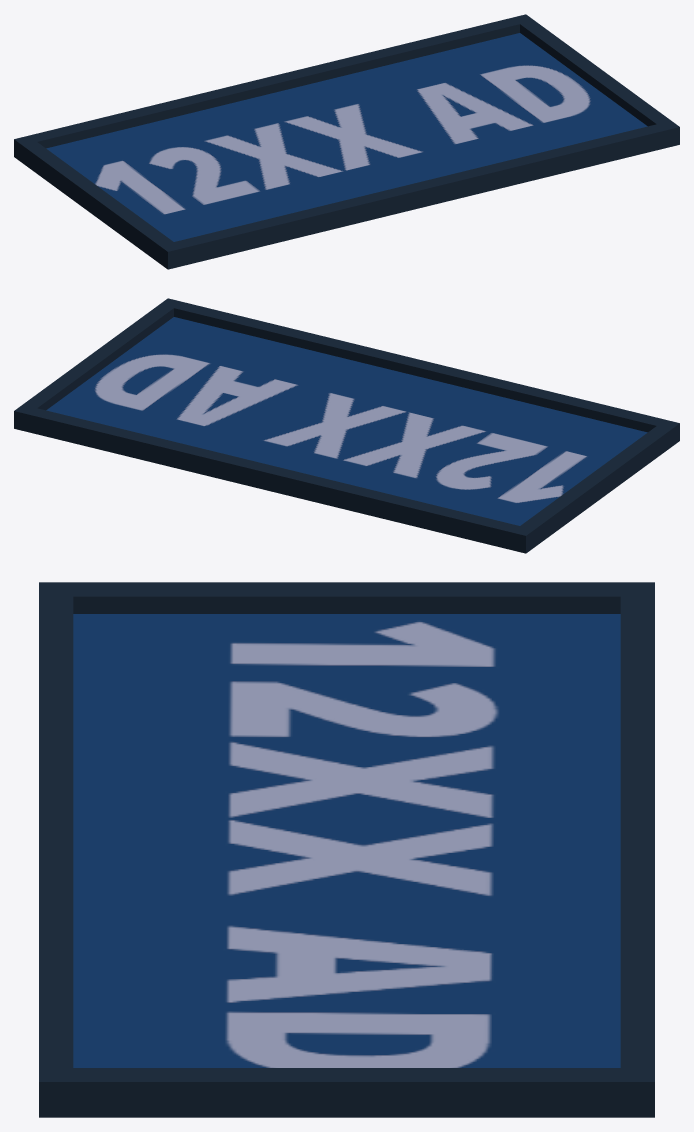
Rendered from Sign_12XXAD.glb.
3 views of the same model, one above another, from view 1: azimuth 30°, elevation 25°; view 2: azimuth 150°, elevation 25°; view 3: azimuth 270°, elevation 25° (orthographic). The views are drawn at different scales.
Visible parts, largest first — view 1: 12XXAD; view 2: 12XXAD; view 3: 12XXAD.
Boxes of the visible parts, bbox=[...] form: 12XXAD: bbox=[14, 14, 679, 269]; 12XXAD: bbox=[14, 298, 679, 553]; 12XXAD: bbox=[39, 582, 654, 1117].
Size of the model in its own units: 3.84 by 0.1273 by 2.
1 material, 1 textured.
